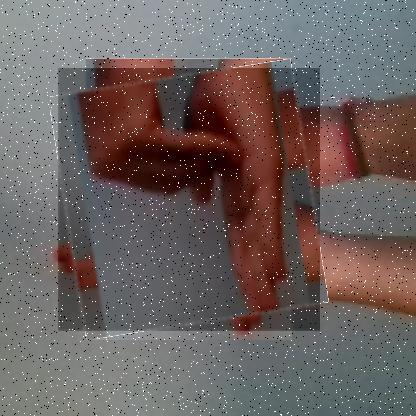Z: (57, 68, 320, 332)
